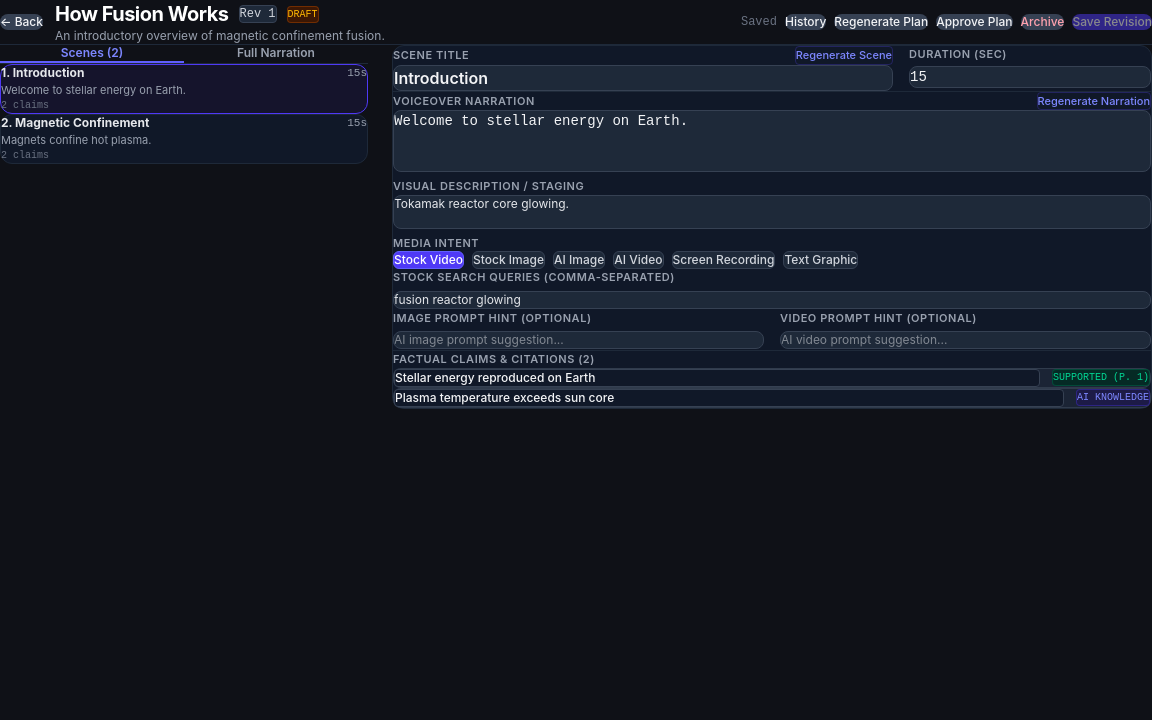
it: ContentPlanEditor Component › opens approval modal with breakdown and approves plan successfully
expect the heading "How Fusion Works" is shown: met, box [55, 0, 228, 28]
Click the button "Approve Plan".
click(974, 22)  # box [936, 14, 1013, 30]
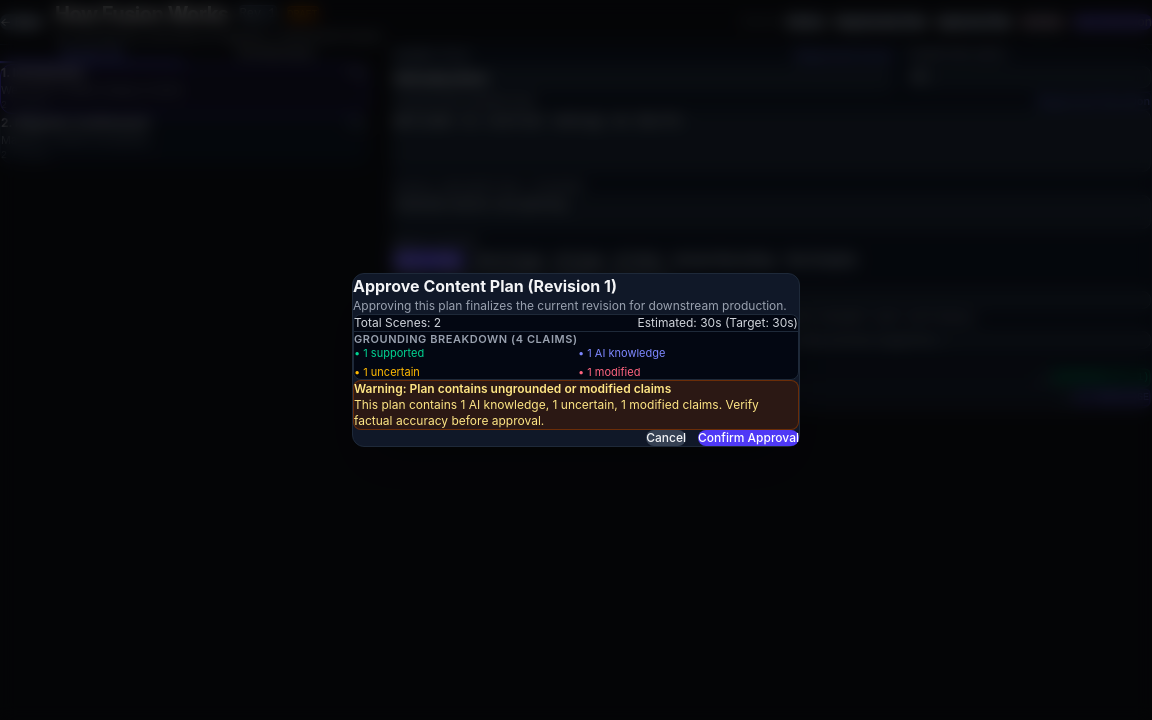
expect the heading "Approve Content Plan (Revision 1)" is shown: met, box [353, 276, 617, 296]
expect the text "Total Scenes: 2" is shown: met, box [354, 314, 441, 330]
expect the text "Estimated: 30s (Target: 30s)" is shown: met, box [638, 314, 798, 330]
Click the button "Confirm Approval".
click(748, 438)  # box [698, 430, 799, 446]
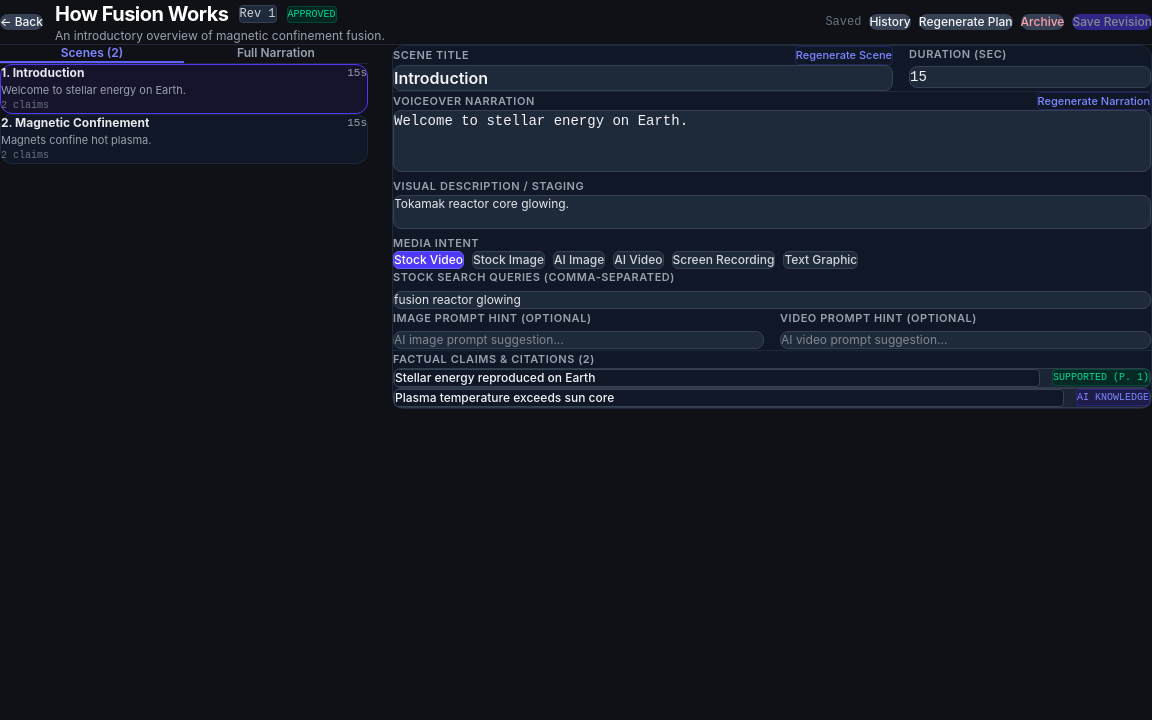
expect the text "approved" is shown: met, box [286, 6, 336, 22]
